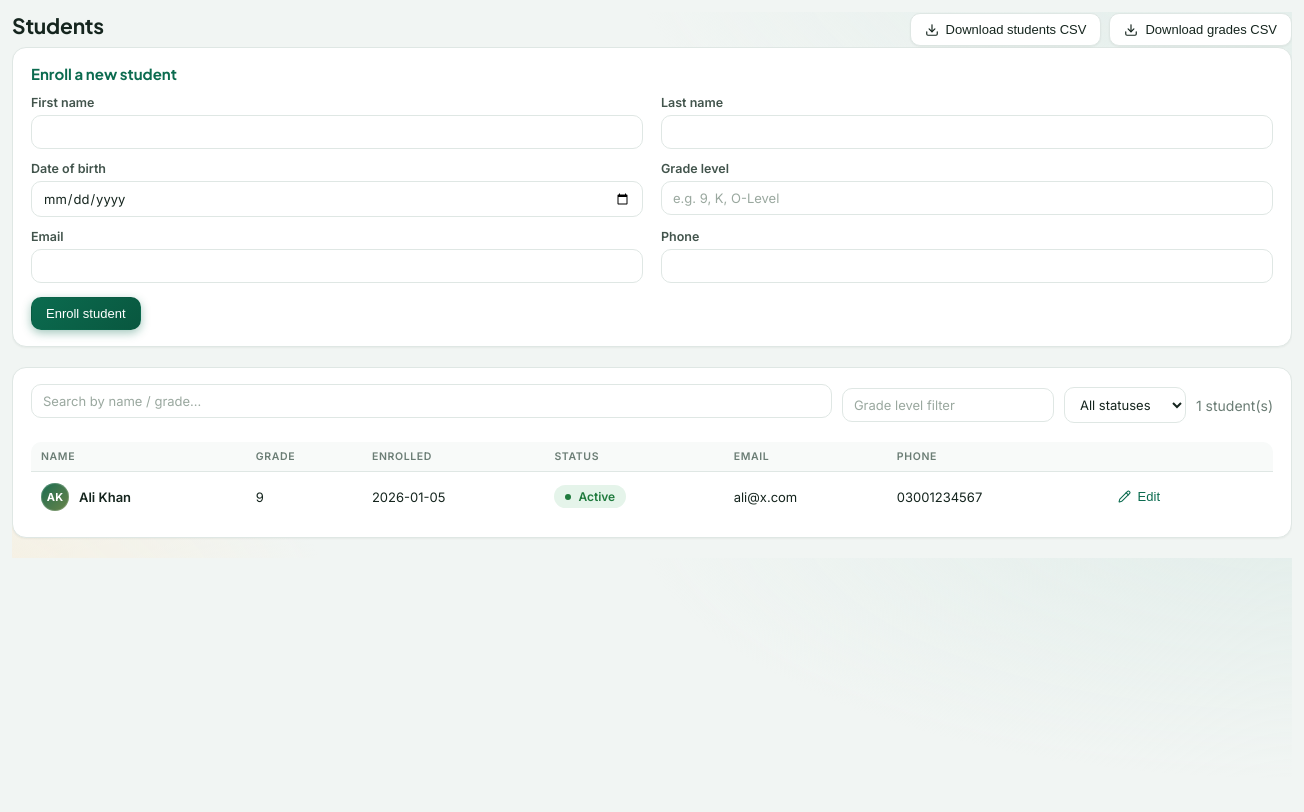
Test case: Students page › opens the edit panel and saves changes via PUT
Expected: the text "Ali Khan" is shown, [41,482,131,510]
Click the button "Edit": (1139, 496) [1103,480,1175,513]
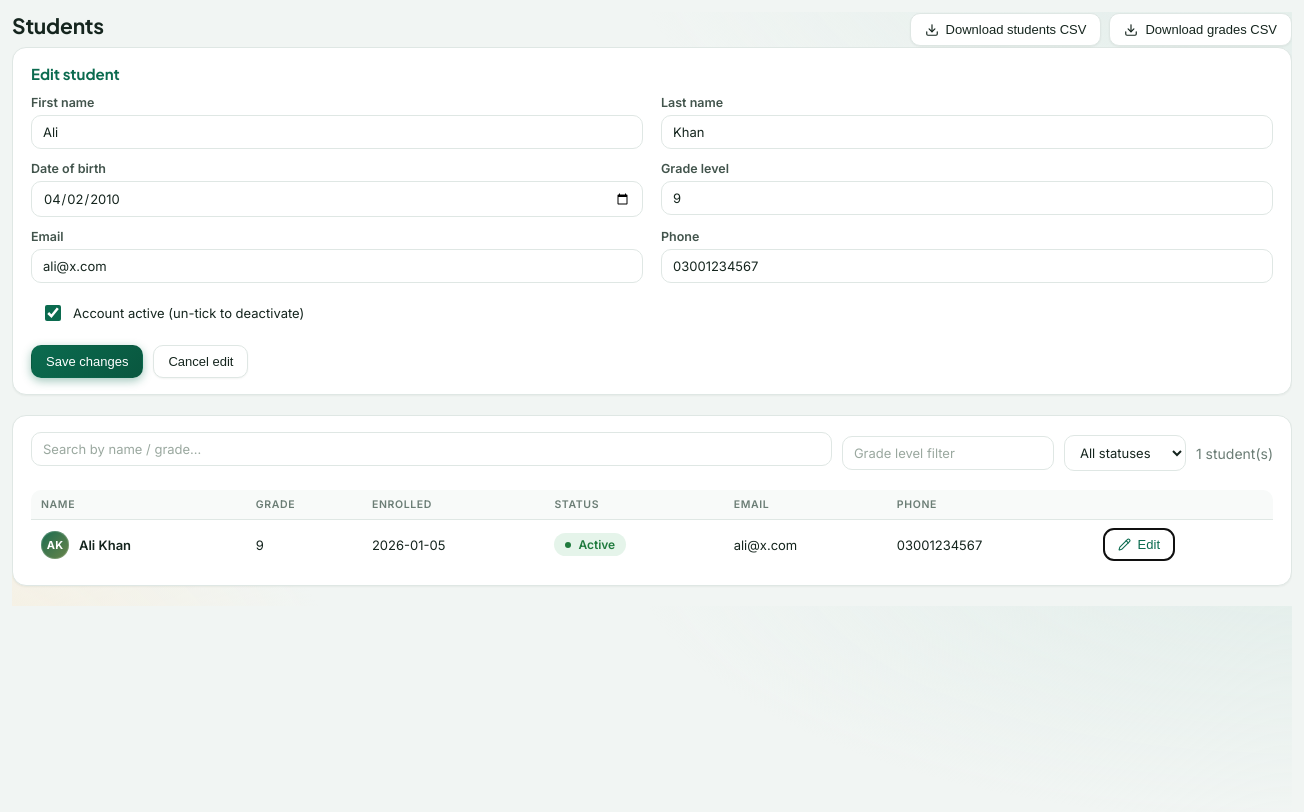
Expected: the field showing "9" is shown, [661,181,1273,215]
Expected: the heading "Edit student" is shown, [31,64,120,83]
Expected: the field showing "Ali" is shown, [31,115,643,149]
Click the button "Save changes": (87, 362) [31,345,143,378]
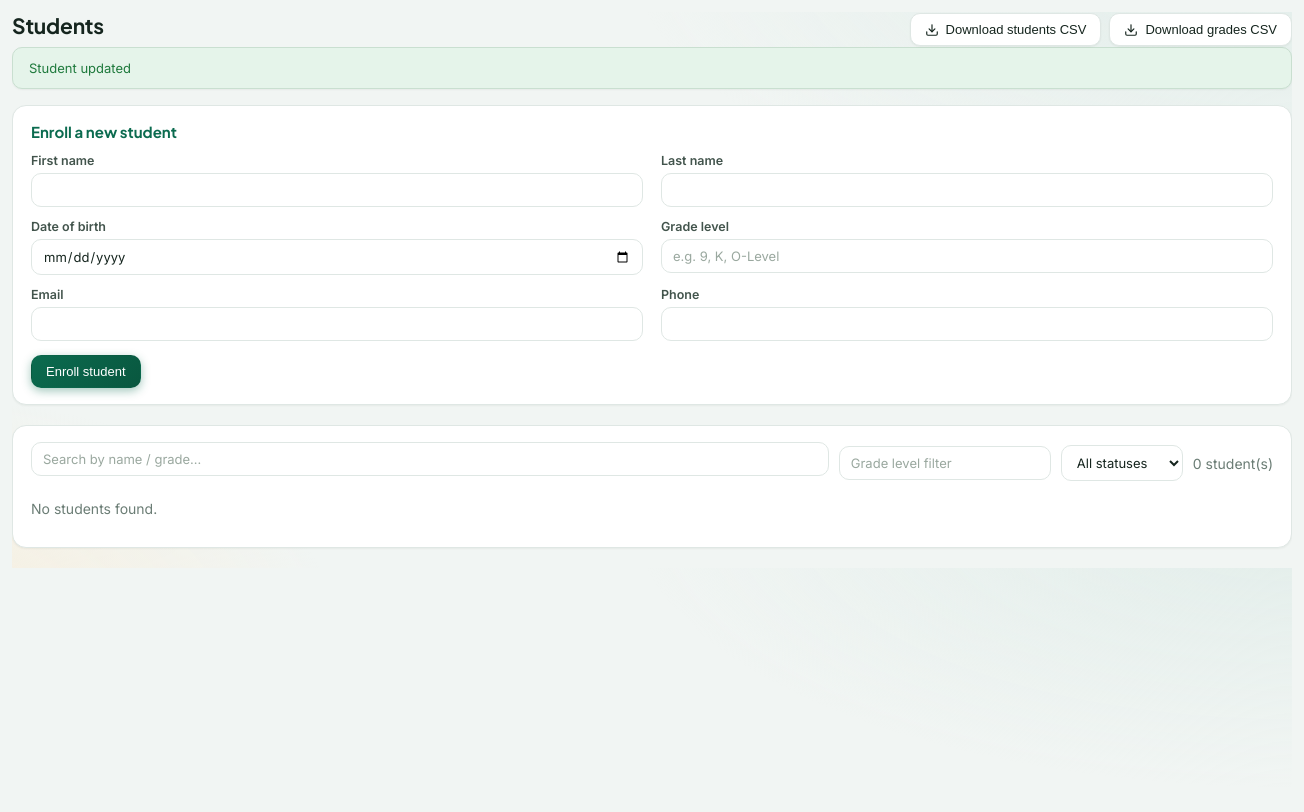
Expected: the text "Student updated" is shown, [12,47,1292,89]
